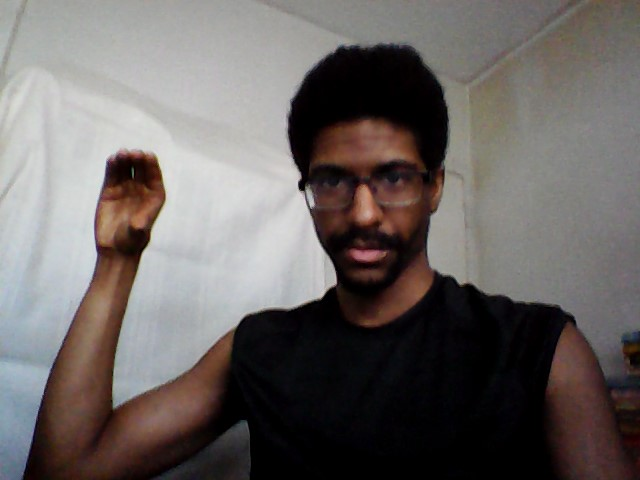c: (89, 143, 171, 261)
